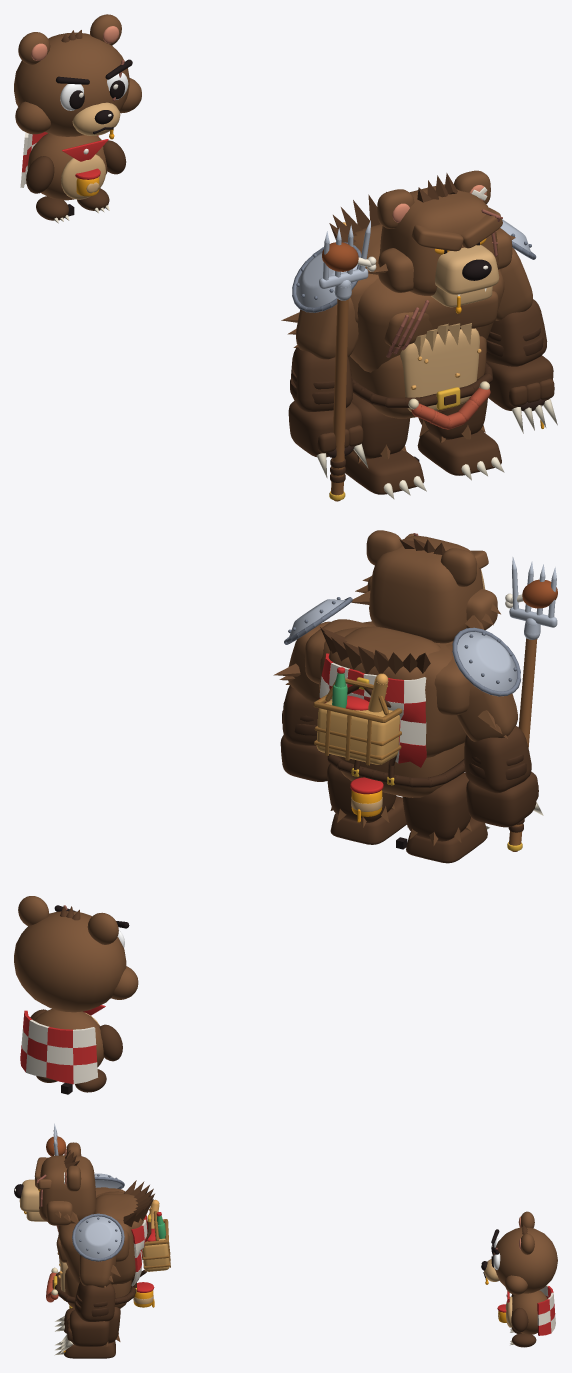
Rendered from BrownBear.fbx.
The picture shows the model from 3 angles, top to bottom: view 1: azimuth 30°, elevation 25°; view 2: azimuth 150°, elevation 25°; view 3: azimuth 270°, elevation 25°; orthographic projection. The views are drawn at different scales.
Parts seen in each view (by area): view 1: B01__Head, B01__Body, P01__Head, B01__Body_Light, B01__RightLeg, B01__LeftLeg, B01__Head_Light, B01__LeftHand, B01__RightHand, P01__Body_FurDark, B01__RightUpperArm, B01__LeftLowerArm (+19 smaller); view 2: B01__Head, P01__Head, B01__Body, B01__RightLeg, B01__LeftLeg, B01__RightLowerArm, B01__Body_Wicker, B01__Body_Cape, B01__RightHand, B01__RightUpperArm_Metal, B01__RightUpperArm, B01__Body_WickerDark (+14 smaller); view 3: B01__Head, B01__Body, P01__Head, B01__LeftUpperArm_Metal, B01__LeftLowerArm, B01__LeftHand, B01__LeftUpperArm, B01__LeftLeg, P01__Body, B01__Body_FurDark, B01__Head_Light, P01__Body_FurDark (+9 smaller).
Boxes of the visible parts, x1=… form: B01__Head: x1=365, y1=170, x2=515, y2=295; B01__Body: x1=348, y1=224, x2=504, y2=418; P01__Head: x1=14, y1=14, x2=141, y2=136; B01__Body_Light: x1=400, y1=323, x2=479, y2=411; B01__RightLeg: x1=344, y1=393, x2=424, y2=494; B01__LeftLeg: x1=417, y1=398, x2=501, y2=475; B01__Head_Light: x1=431, y1=245, x2=499, y2=307; B01__LeftHand: x1=486, y1=355, x2=554, y2=410; B01__RightHand: x1=288, y1=401, x2=363, y2=457; P01__Body_FurDark: x1=26, y1=140, x2=126, y2=220; B01__RightUpperArm: x1=281, y1=297, x2=358, y2=359; B01__LeftLowerArm: x1=486, y1=299, x2=547, y2=366; B01__Head: x1=351, y1=530, x2=500, y2=643; P01__Head: x1=14, y1=896, x2=138, y2=1012; B01__Body: x1=305, y1=619, x2=471, y2=797; B01__RightLeg: x1=402, y1=772, x2=487, y2=863; B01__LeftLeg: x1=327, y1=764, x2=406, y2=844; B01__RightLowerArm: x1=464, y1=726, x2=531, y2=793; B01__Body_Wicker: x1=316, y1=699, x2=399, y2=764; B01__Body_Cape: x1=318, y1=653, x2=426, y2=794; B01__RightHand: x1=466, y1=772, x2=538, y2=827; B01__RightUpperArm_Metal: x1=457, y1=631, x2=516, y2=691; B01__RightUpperArm: x1=456, y1=683, x2=517, y2=741; B01__Body_WickerDark: x1=313, y1=678, x2=402, y2=765; B01__Head: x1=34, y1=1142, x2=96, y2=1225; B01__Body: x1=56, y1=1188, x2=143, y2=1308; P01__Head: x1=493, y1=1211, x2=557, y2=1294; B01__LeftUpperArm_Metal: x1=75, y1=1216, x2=121, y2=1258; B01__LeftLowerArm: x1=74, y1=1281, x2=115, y2=1321; B01__LeftHand: x1=67, y1=1310, x2=109, y2=1346; B01__LeftUpperArm: x1=79, y1=1255, x2=120, y2=1288; B01__LeftLeg: x1=64, y1=1307, x2=120, y2=1358; P01__Body: x1=512, y1=1290, x2=547, y2=1334; B01__Body_FurDark: x1=123, y1=1180, x2=154, y2=1226; B01__Head_Light: x1=19, y1=1179, x2=45, y2=1221; P01__Body_FurDark: x1=511, y1=1294, x2=536, y2=1347.
Bounding box in the file's own units: 1673 × 1942 × 5060.
